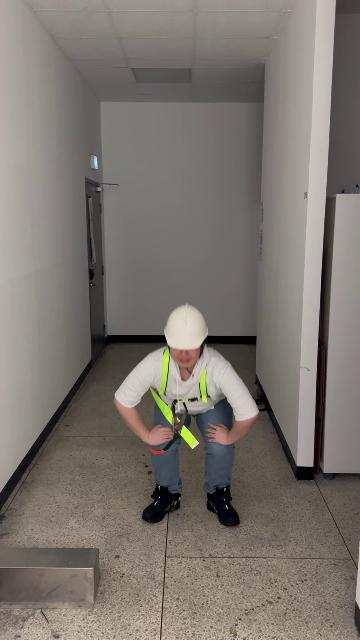helmet_worn: (163, 303, 210, 349)
shoe_worn: (141, 483, 181, 523), (206, 485, 239, 526)
vest_worn: (148, 348, 206, 450)
